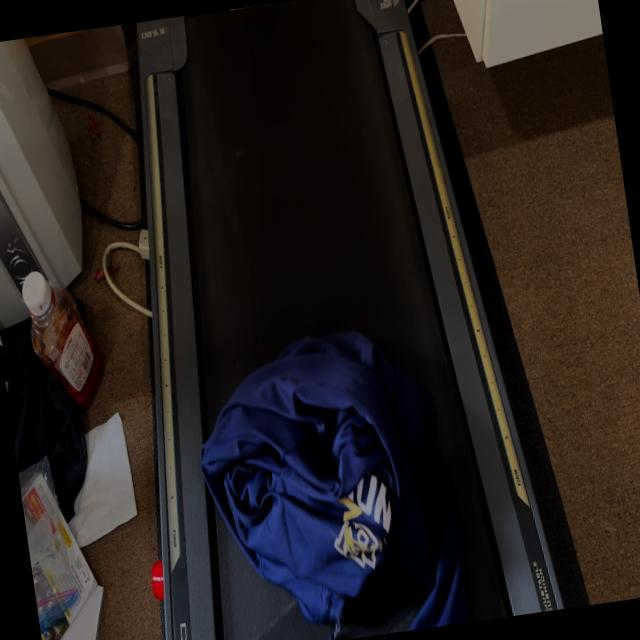Trash: (186, 313, 476, 640)
